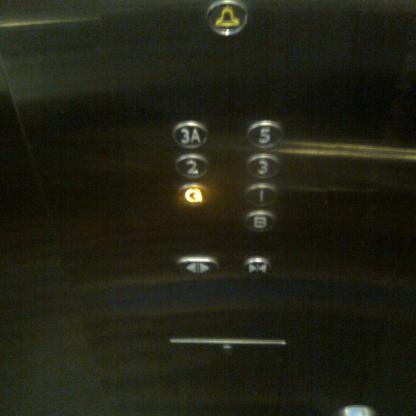1: (244, 182, 278, 206)
2: (174, 153, 210, 179)
3: (246, 153, 282, 180)
3A: (172, 120, 209, 150)
5: (245, 120, 285, 149)
B: (244, 210, 275, 232)
G: (175, 183, 212, 207)
alarm: (202, 0, 250, 37)
close: (242, 256, 272, 278)
open: (175, 255, 220, 276)
